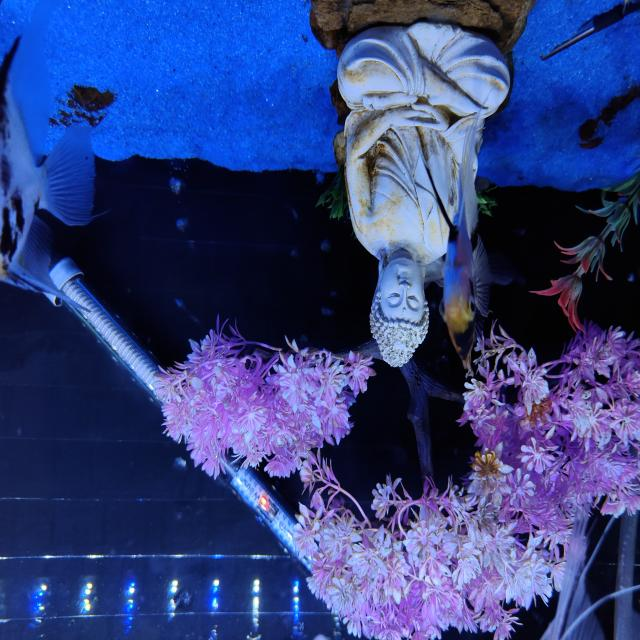Fish: (0, 0, 94, 295), (432, 110, 491, 367)
